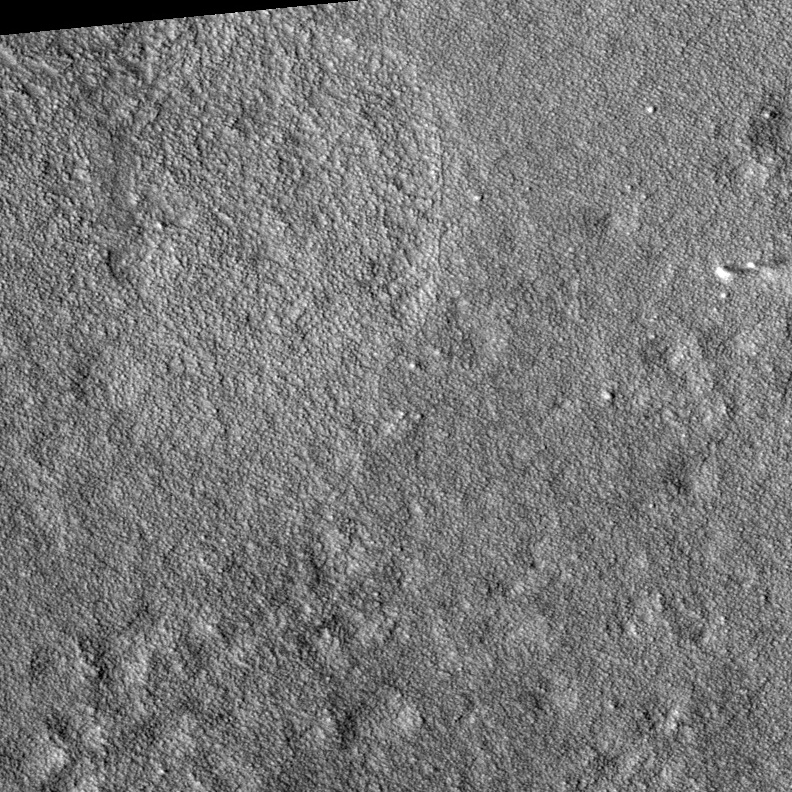dust_devil: (712, 254, 787, 283)
